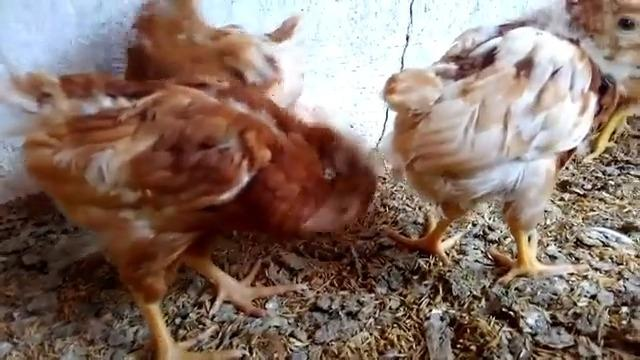AbNormal: (20, 68, 383, 360)
